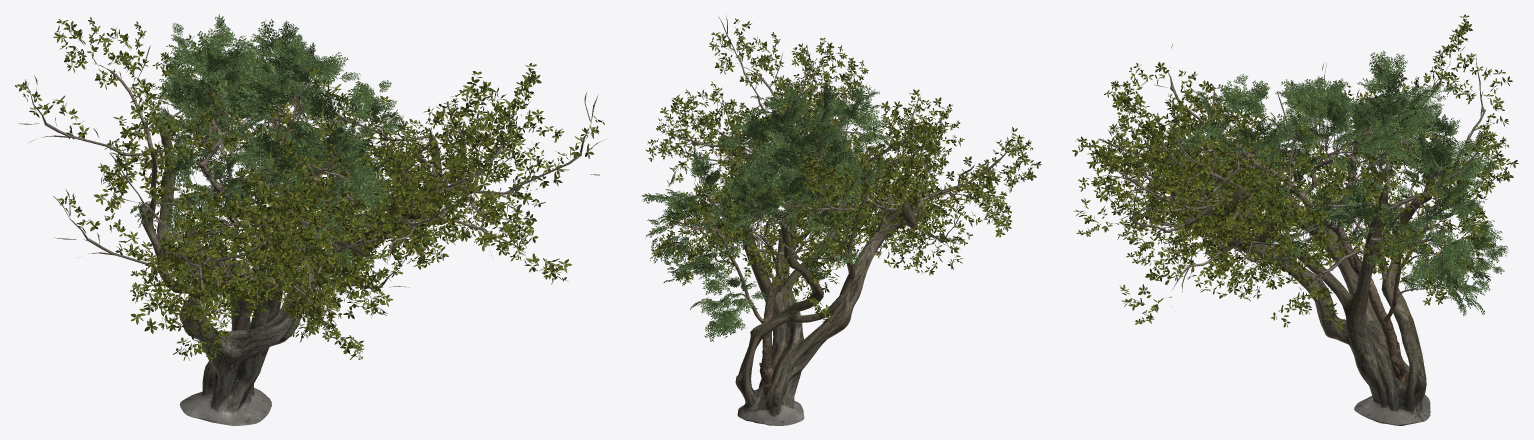
File: woodland-trees-BXCmrbEk.glb
The picture shows the model from 3 angles, left to right: view 1: azimuth 30°, elevation 25°; view 2: azimuth 150°, elevation 25°; view 3: azimuth 270°, elevation 25°; orthographic projection. The views are drawn at different scales.
Parts seen in each view (by area): view 1: island_tree_02_LOD0, tree_small_02_LOD0; view 2: island_tree_02_LOD0, tree_small_02_LOD0; view 3: island_tree_02_LOD0, tree_small_02_LOD0.
Boxes of the visible parts, x1,y1,x2,y2 form: island_tree_02_LOD0: [15, 17, 605, 425]; tree_small_02_LOD0: [130, 14, 408, 330]; island_tree_02_LOD0: [646, 16, 1041, 425]; tree_small_02_LOD0: [642, 79, 890, 395]; island_tree_02_LOD0: [1072, 14, 1518, 425]; tree_small_02_LOD0: [1166, 51, 1508, 384].
Size of what is drawn, in the model's own units: 9.12 by 7.66 by 9.17.
Materials: 6 (6 with a texture image).
